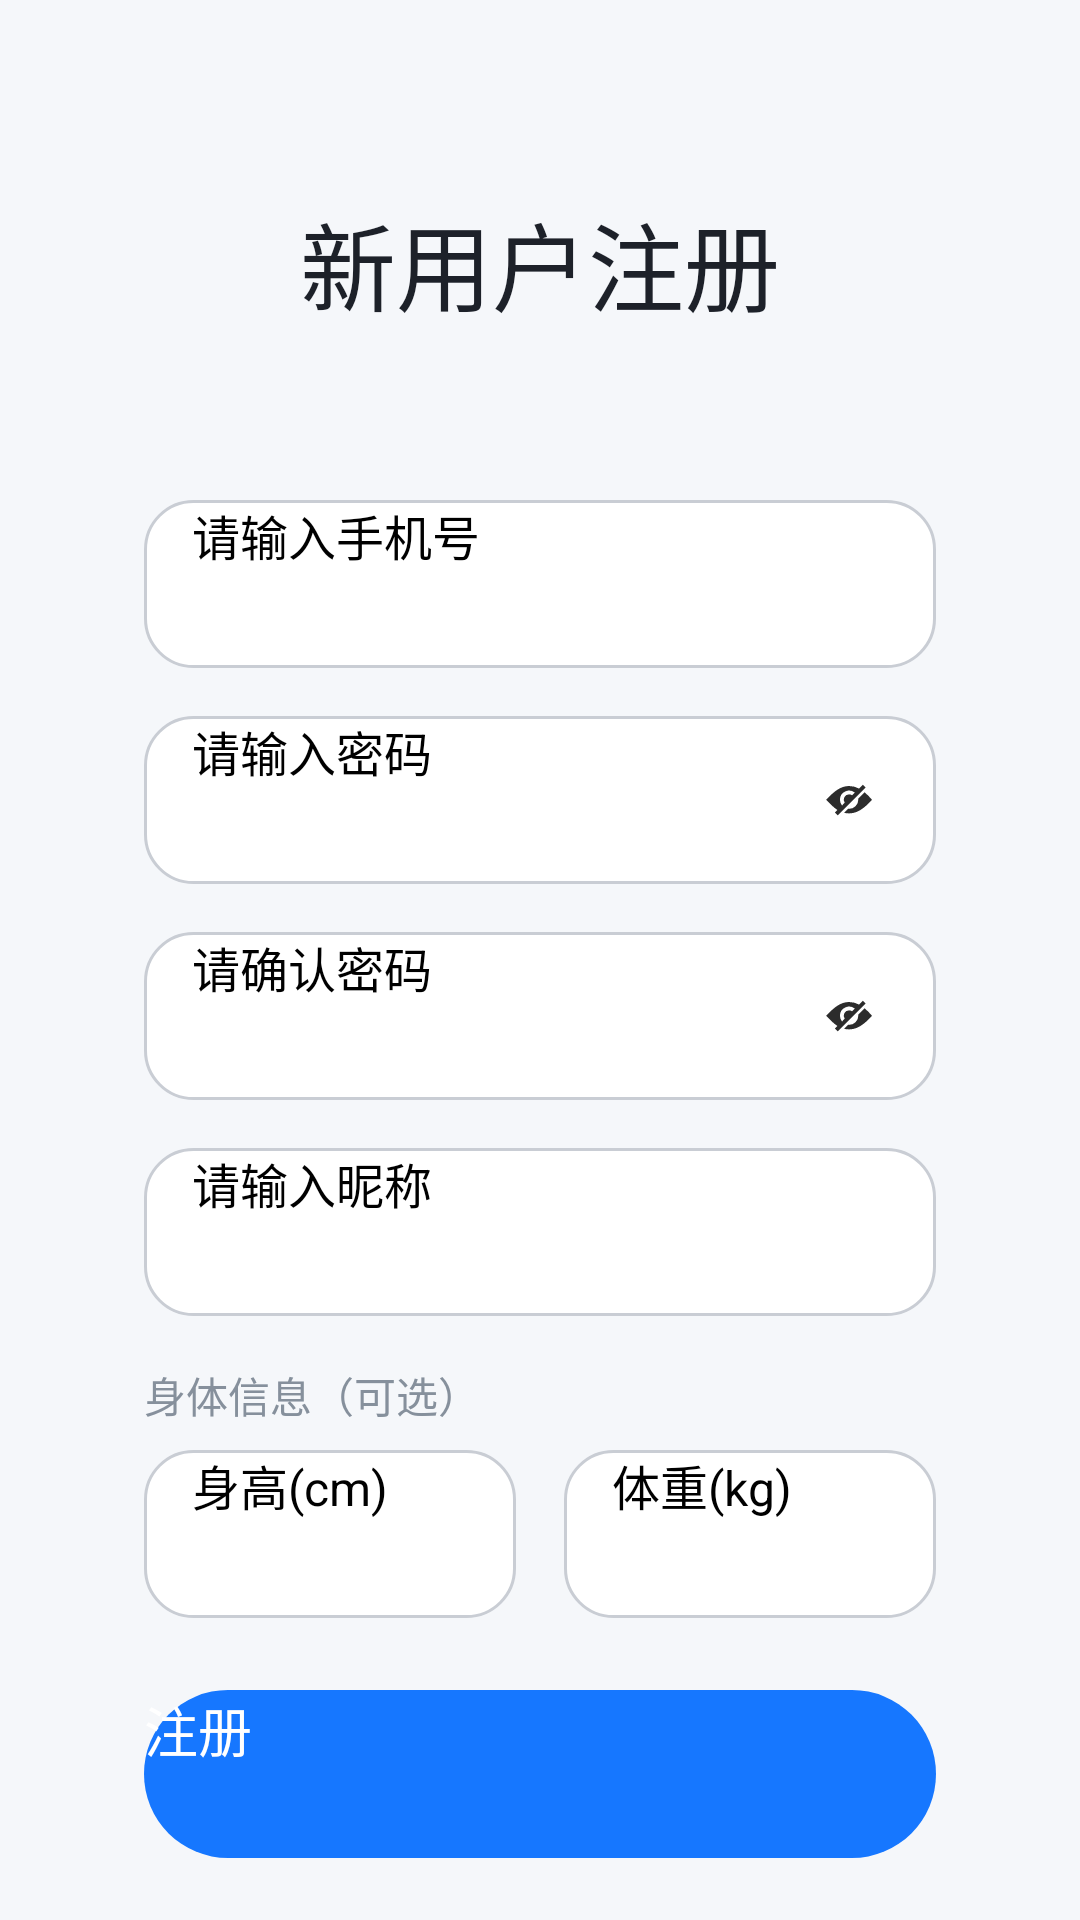

Icon bounding boxes for this 1080x1920 phone screenshot, format (x1, y1, x2, y2):
eye closed: (826, 785, 872, 816), (826, 1001, 872, 1032)
